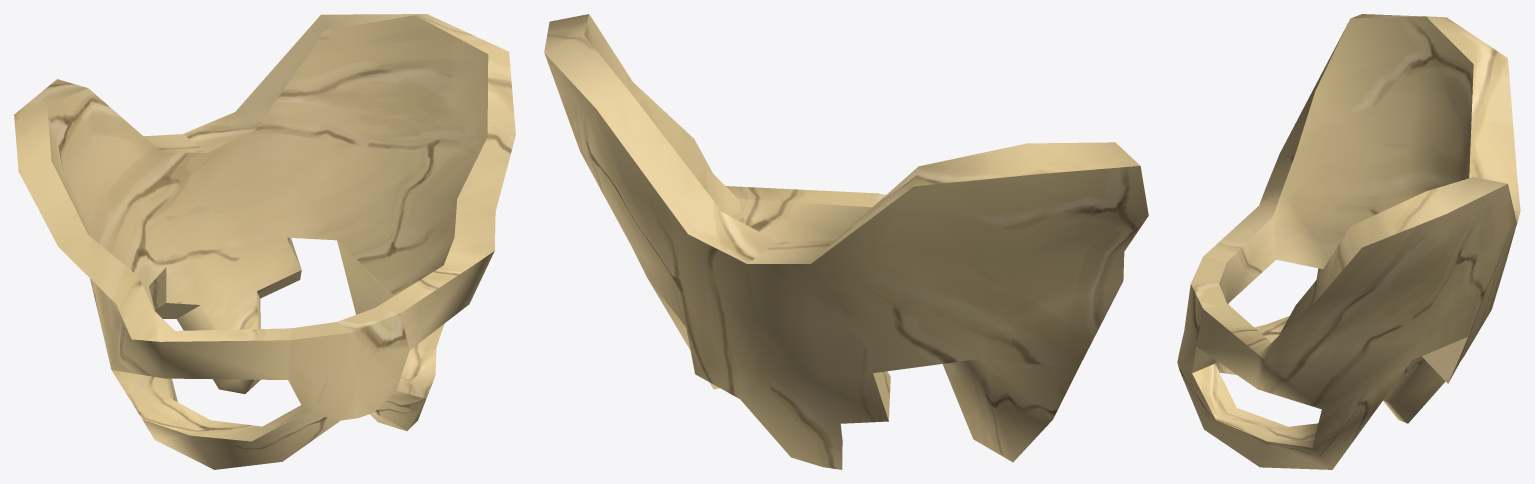
The model's file is SM_PROP_skeleton_pelvis.fbx.
3 renders of one model, left to right at view 1: azimuth 30°, elevation 25°; view 2: azimuth 150°, elevation 25°; view 3: azimuth 270°, elevation 25°, orthographic. The views are drawn at different scales.
Parts seen in each view (by area): view 1: SM_PROP_skeleton_pelvis; view 2: SM_PROP_skeleton_pelvis; view 3: SM_PROP_skeleton_pelvis.
Part boxes in pixels (x1,y1,x2,y2): SM_PROP_skeleton_pelvis: [14, 14, 515, 469]; SM_PROP_skeleton_pelvis: [544, 14, 1148, 469]; SM_PROP_skeleton_pelvis: [1177, 14, 1520, 469].
Size of the model in its own units: 72.13 by 45.51 by 44.79.
